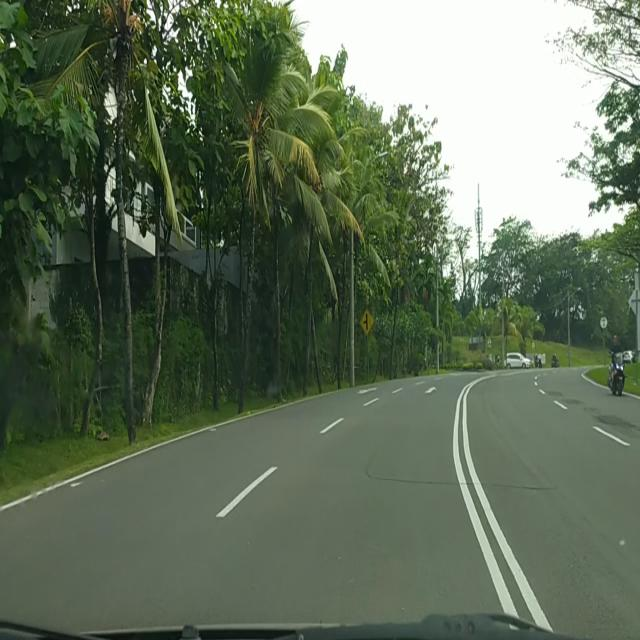Sewer Cover: (361, 465, 547, 493)
